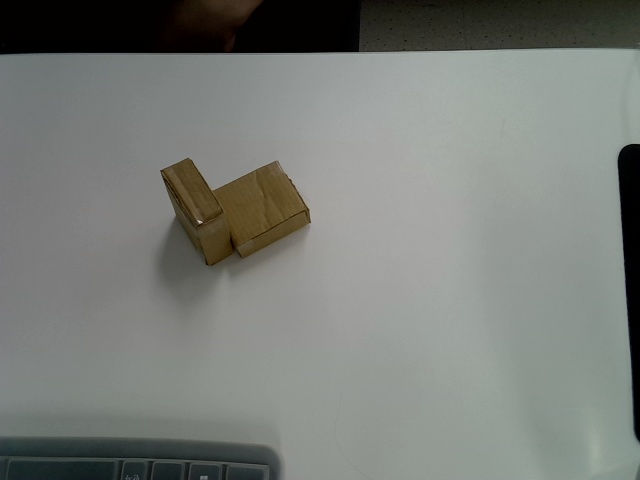normal: (211, 158, 313, 260), (160, 158, 233, 266)
